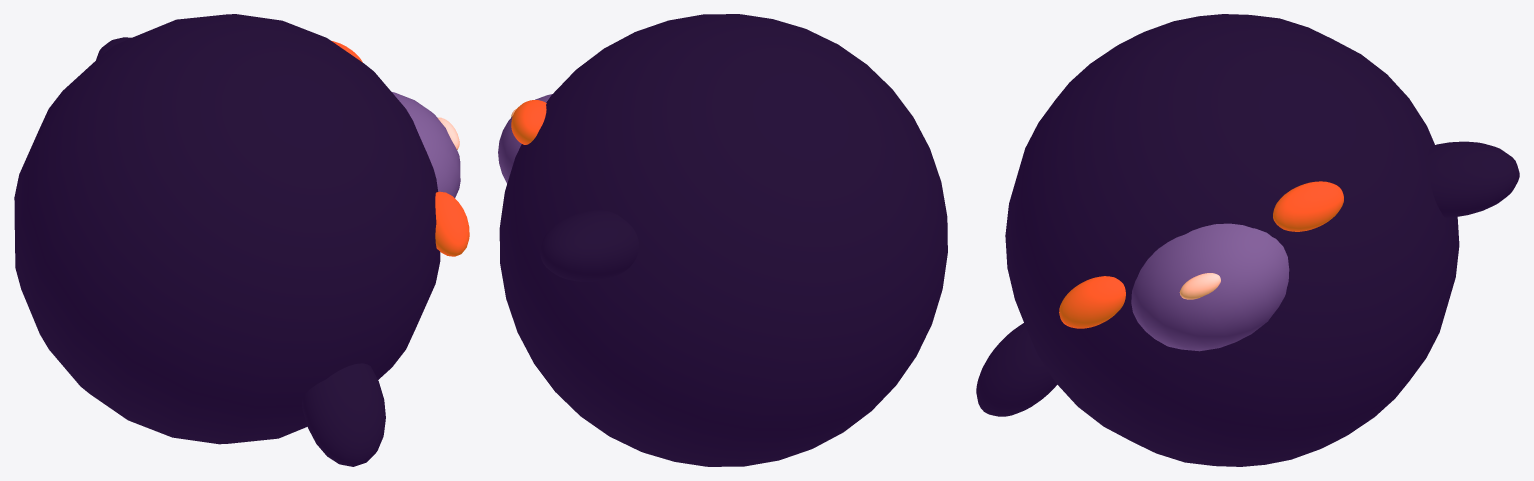
Rendered from sealbumper50FBX.fbx.
3 views of the same model, side by side, from view 1: azimuth 30°, elevation 25°; view 2: azimuth 150°, elevation 25°; view 3: azimuth 270°, elevation 25° (orthographic). The views are drawn at different scales.
Visible parts, largest first — view 1: pSphere9; view 2: pSphere9; view 3: pSphere9.
Boxes of the visible parts, left/top/right/bottom form: pSphere9: left=14, top=14, right=469, bottom=466; pSphere9: left=498, top=14, right=947, bottom=466; pSphere9: left=976, top=14, right=1519, bottom=466.
Size of the model in its own units: 2.15 by 2 by 2.39.
